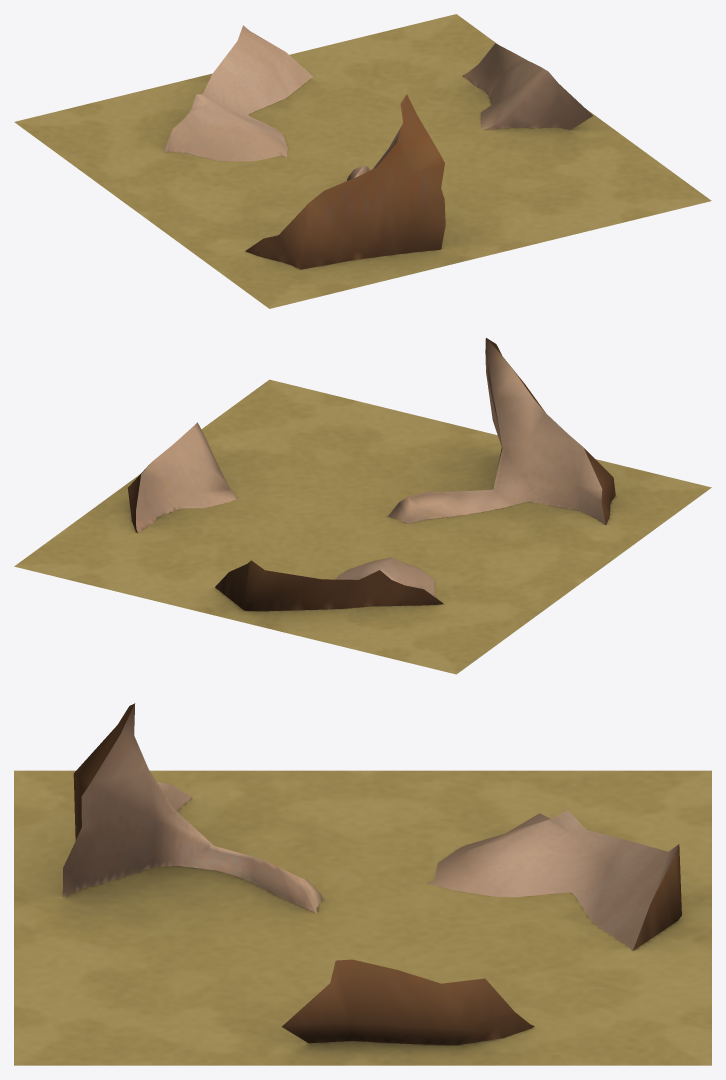
File: W-Sol_Rocher2Casse.FBX
3 views of the same model, one above another, from view 1: azimuth 30°, elevation 25°; view 2: azimuth 150°, elevation 25°; view 3: azimuth 270°, elevation 25° (orthographic). The views are drawn at different scales.
Parts seen in each view (by area): view 1: Sol_Rocher2Casse; view 2: Sol_Rocher2Casse; view 3: Sol_Rocher2Casse.
Part boxes in pixels (box(x1,y1,x2,y2)): Sol_Rocher2Casse: box(14, 14, 711, 308); Sol_Rocher2Casse: box(14, 338, 711, 674); Sol_Rocher2Casse: box(14, 703, 711, 1065).
Bounding box in the file's own units: 2 × 0.6459 × 2.
